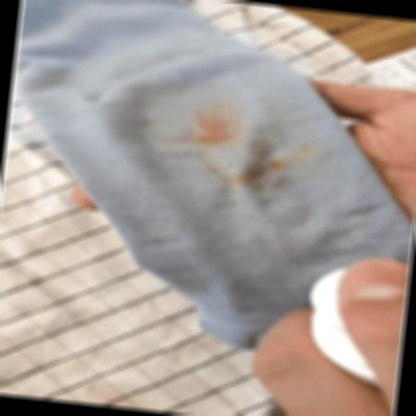kimchi: (193, 102, 236, 156), (264, 138, 317, 174), (240, 157, 272, 187), (269, 171, 294, 196), (199, 157, 223, 178)
